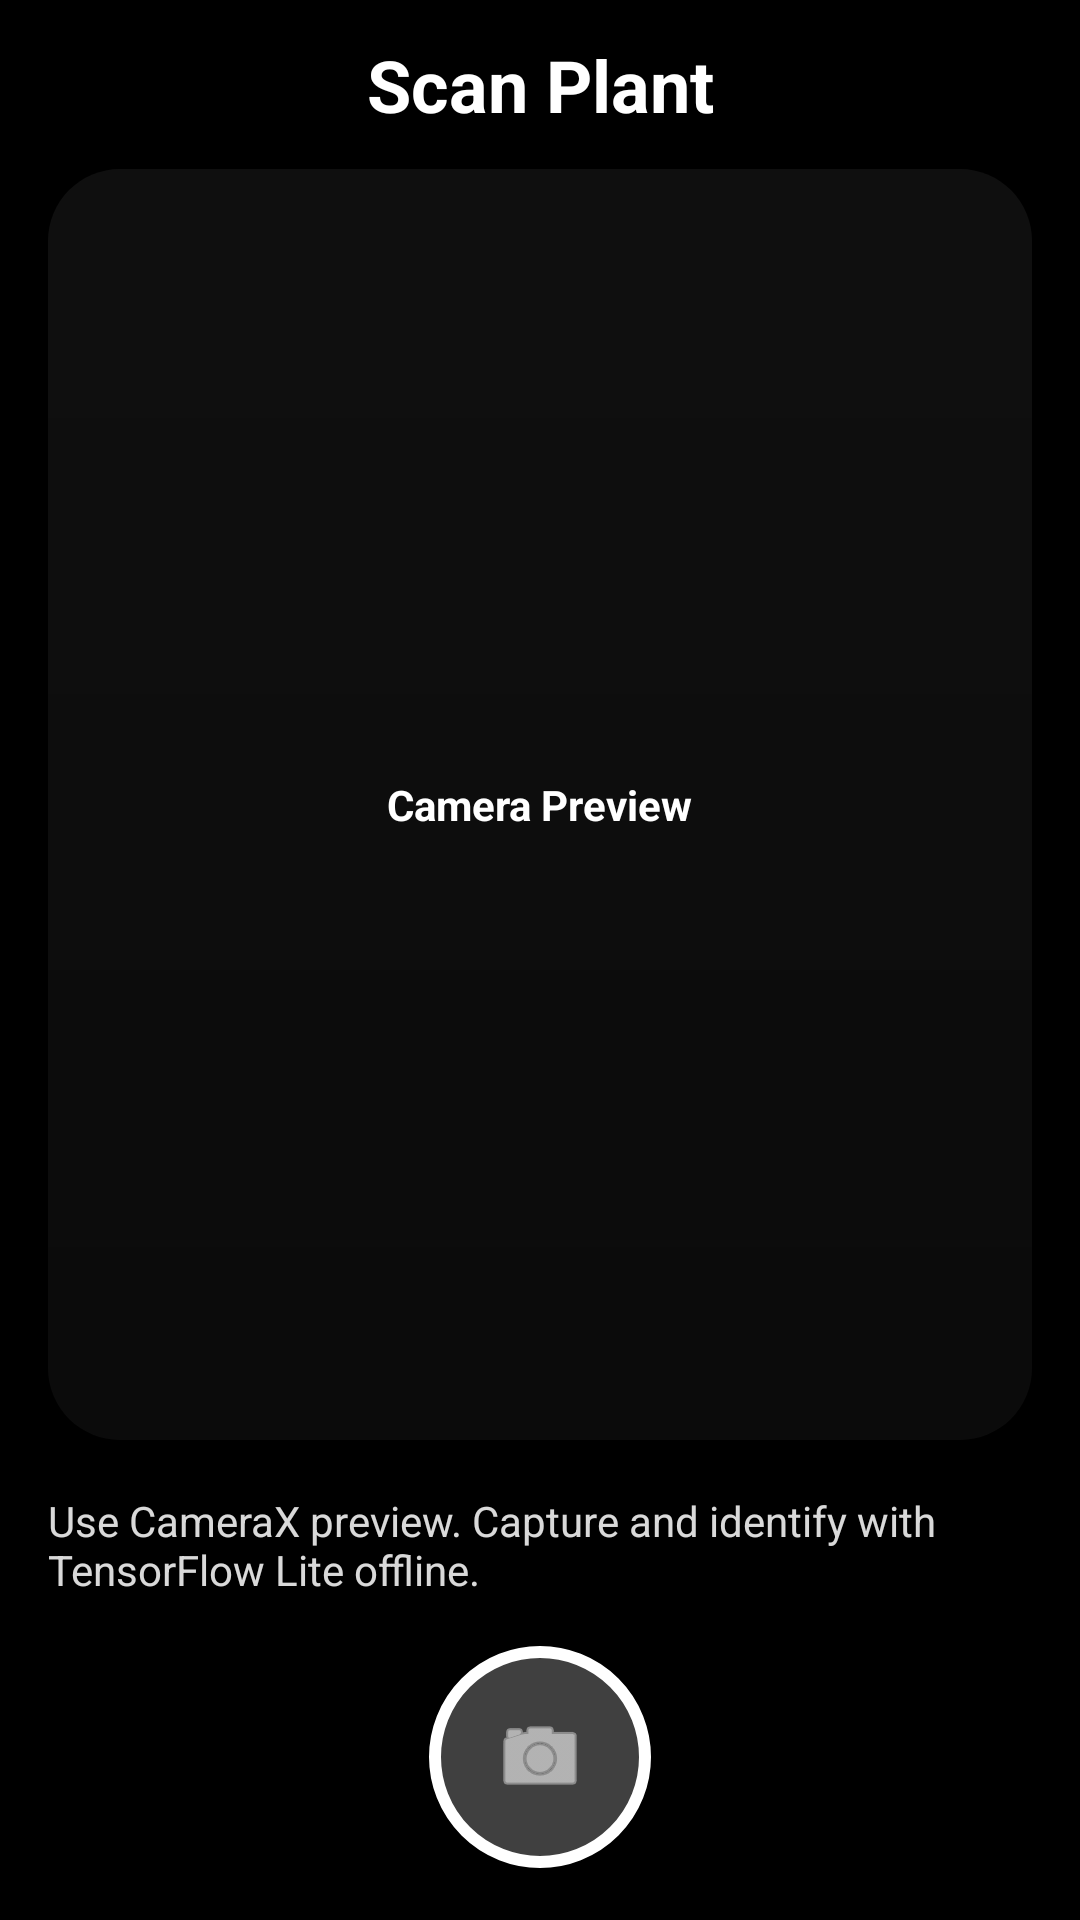

Icon click points for this 1080px x 1920px phone screenshot, format point (x, y):
Capture plant photo: point (540, 1757)
